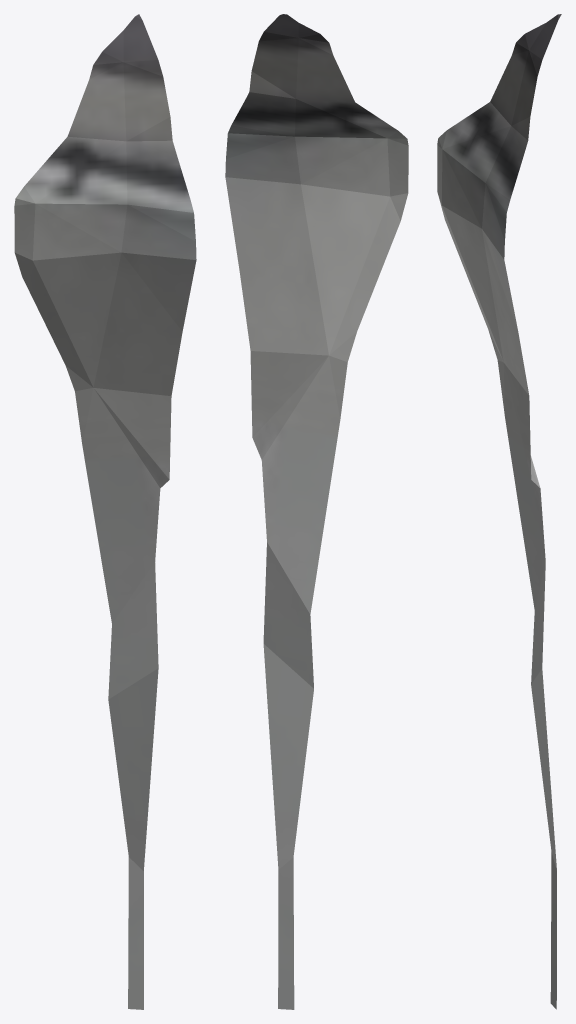
3 views of the same model, side by side, from view 1: azimuth 30°, elevation 25°; view 2: azimuth 210°, elevation 25°; view 3: azimuth 330°, elevation 25° (orthographic).
Bounding box in the file's own units: 0.073 × 0.555 × 0.0582.
Materials: 1 (1 with a texture image).
